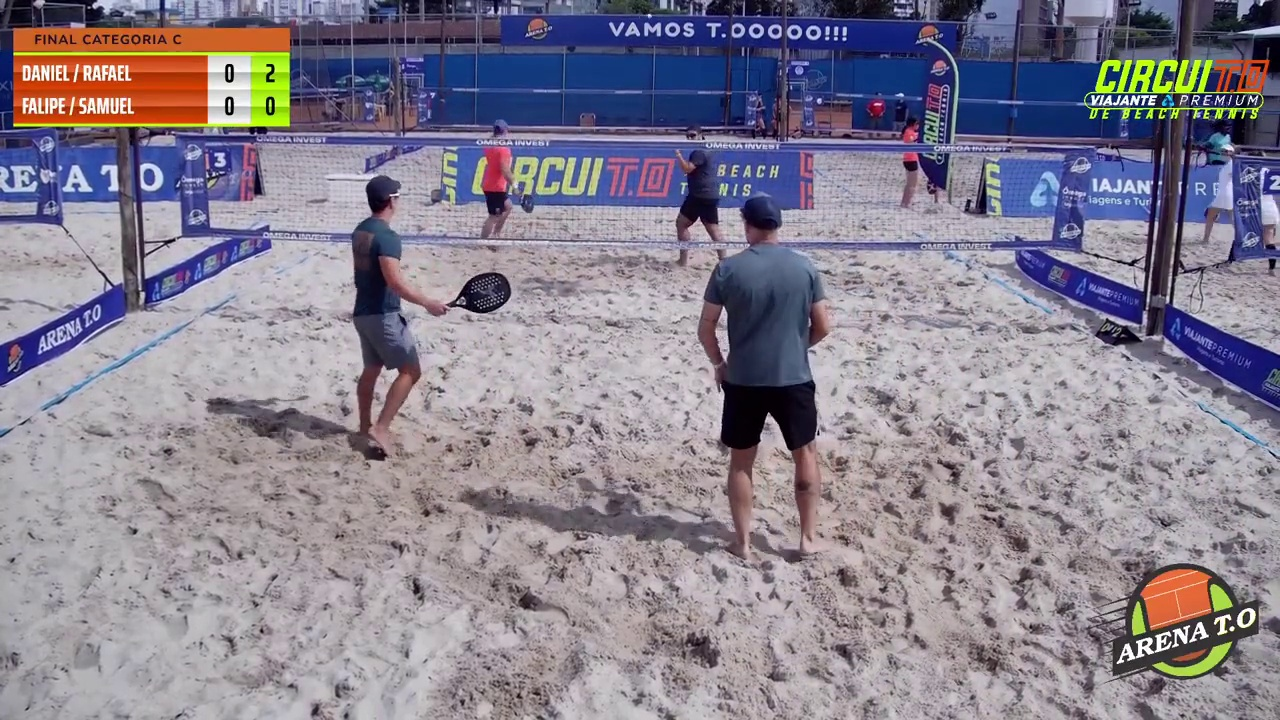court_line: (546, 0, 665, 381)
